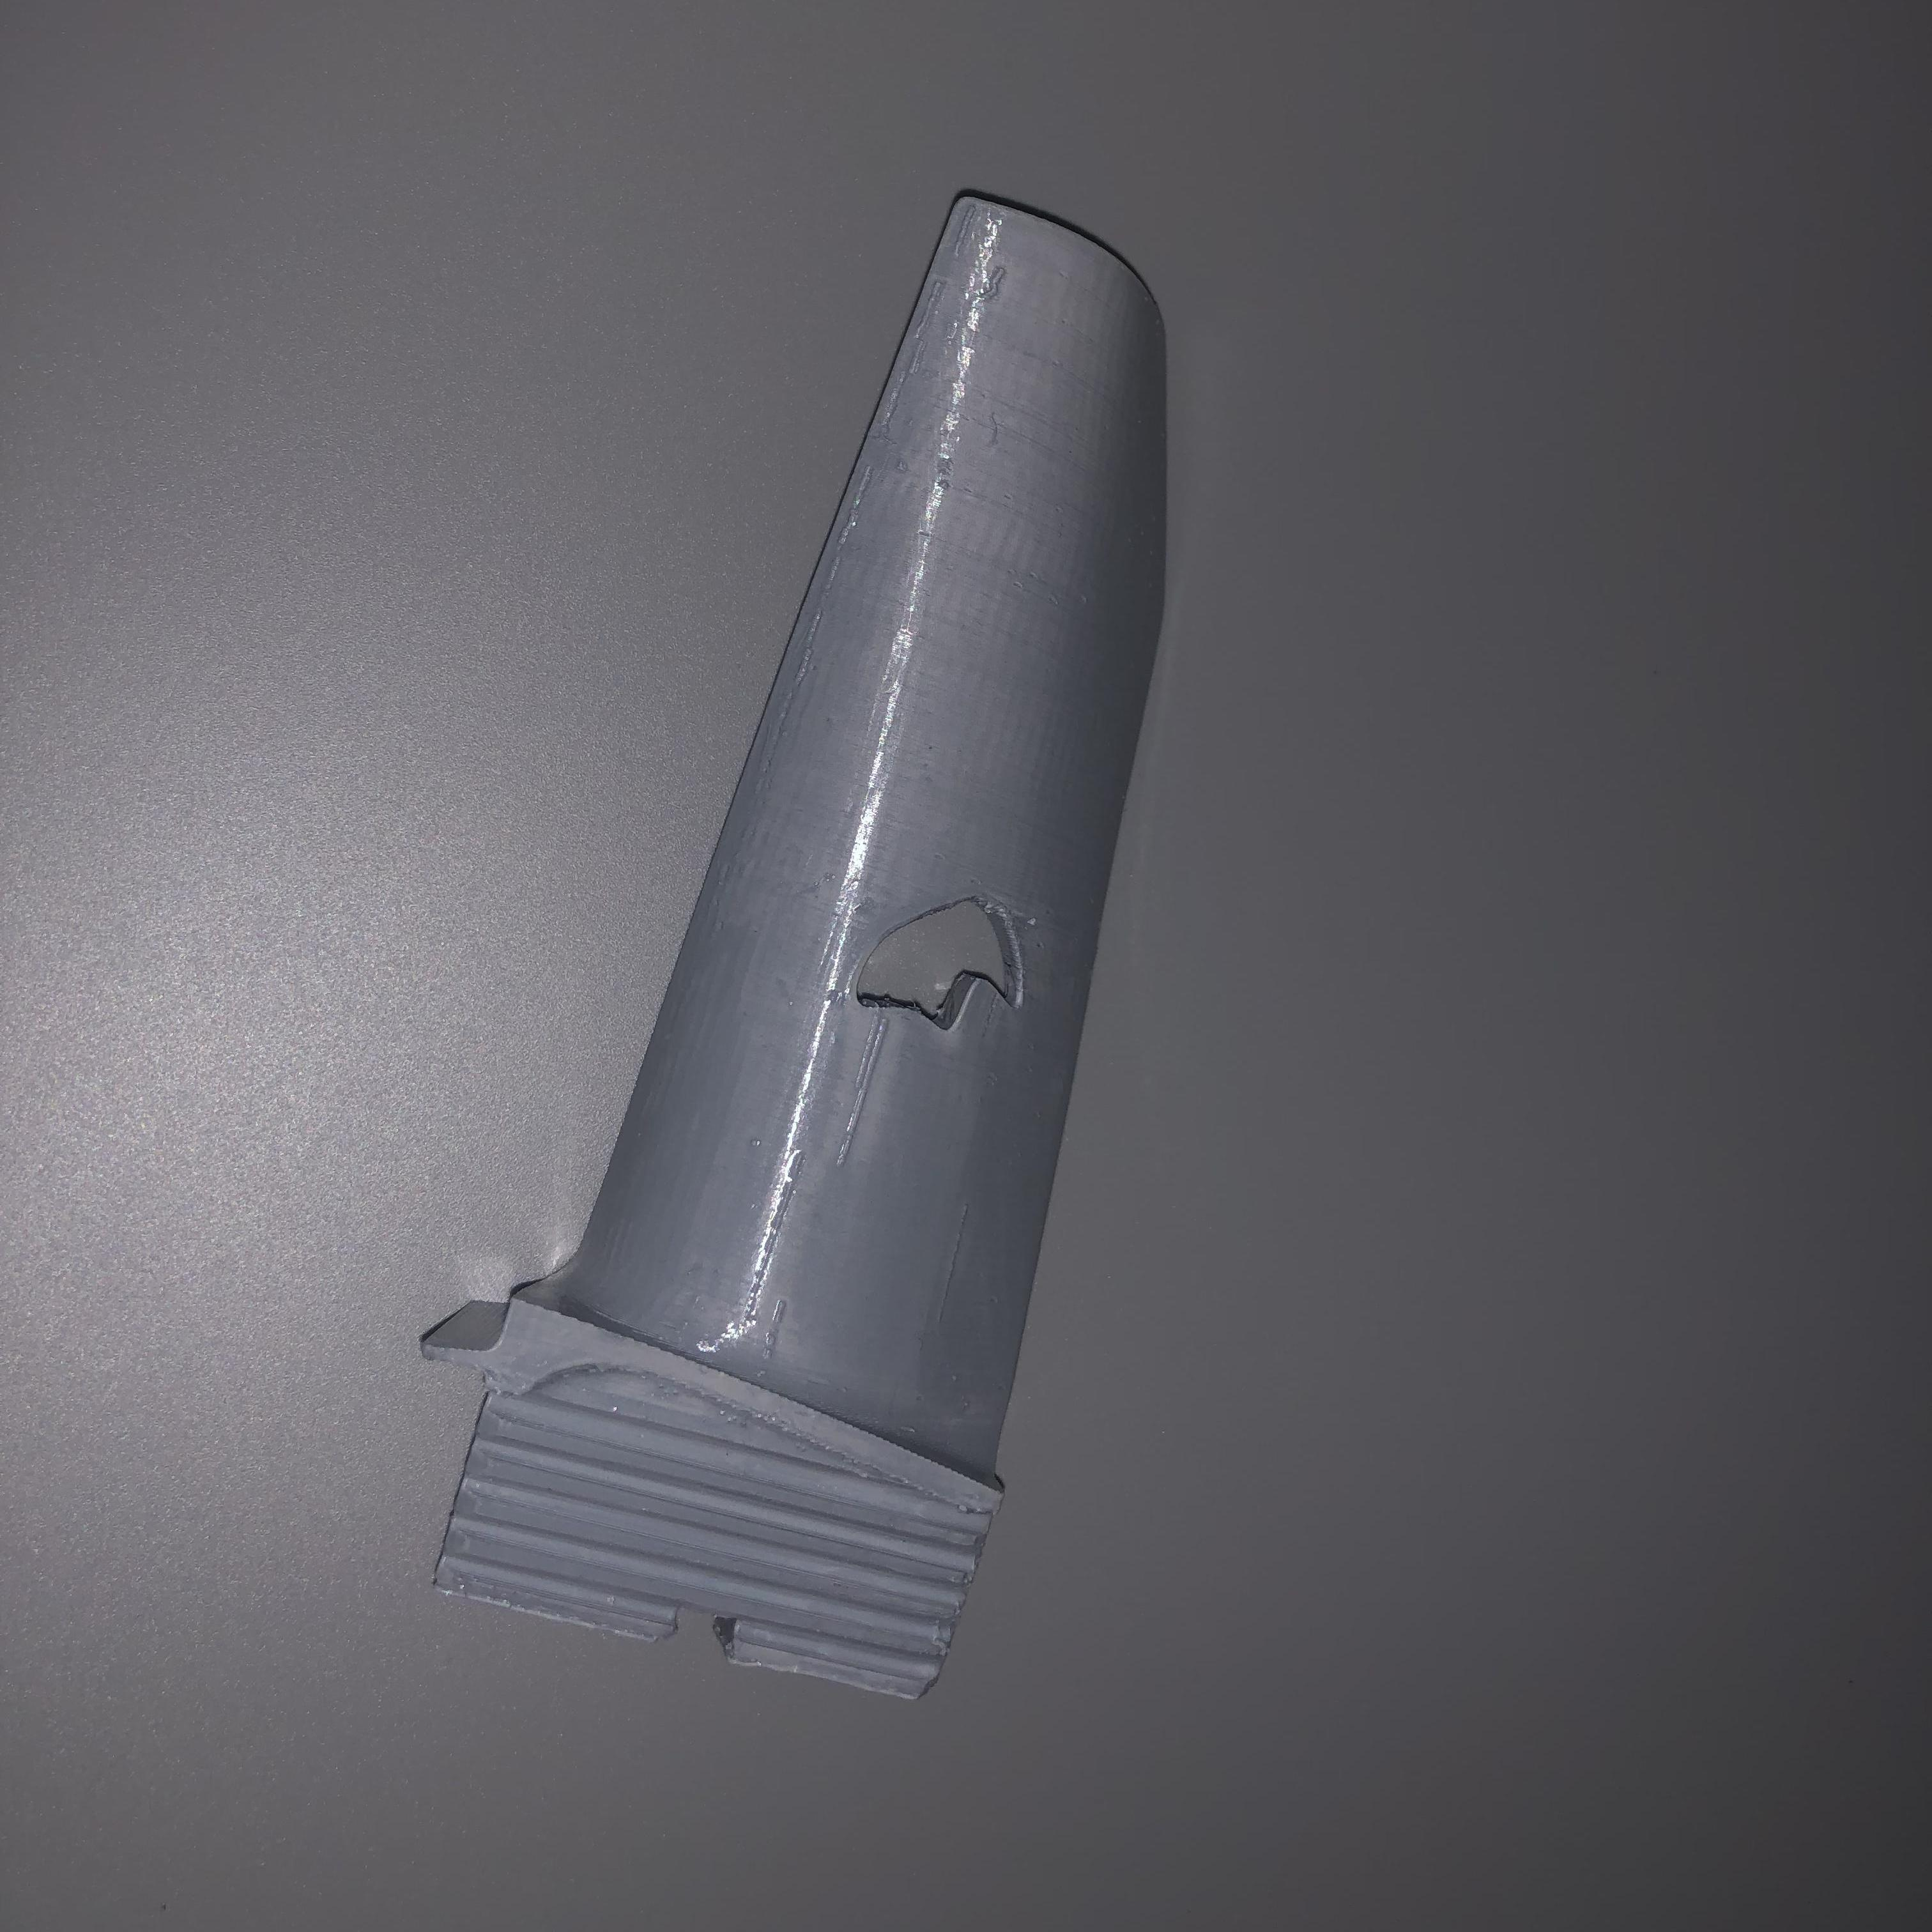breakdown: (851, 876, 1035, 1037)
